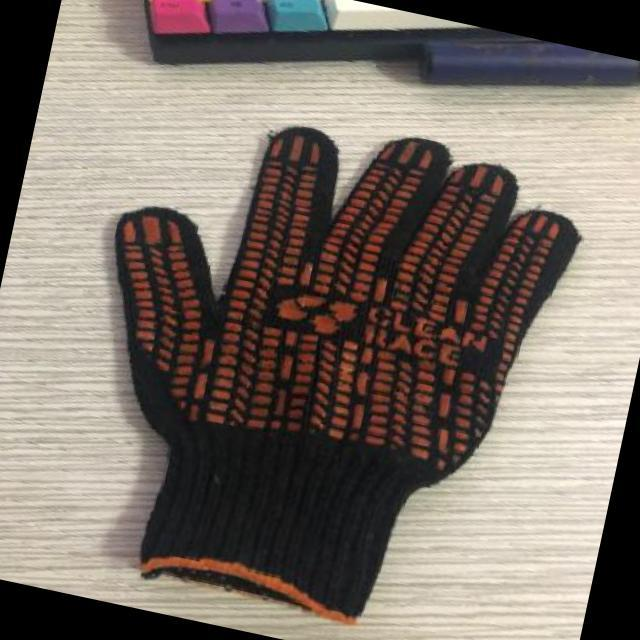glove: (116, 119, 583, 628)
